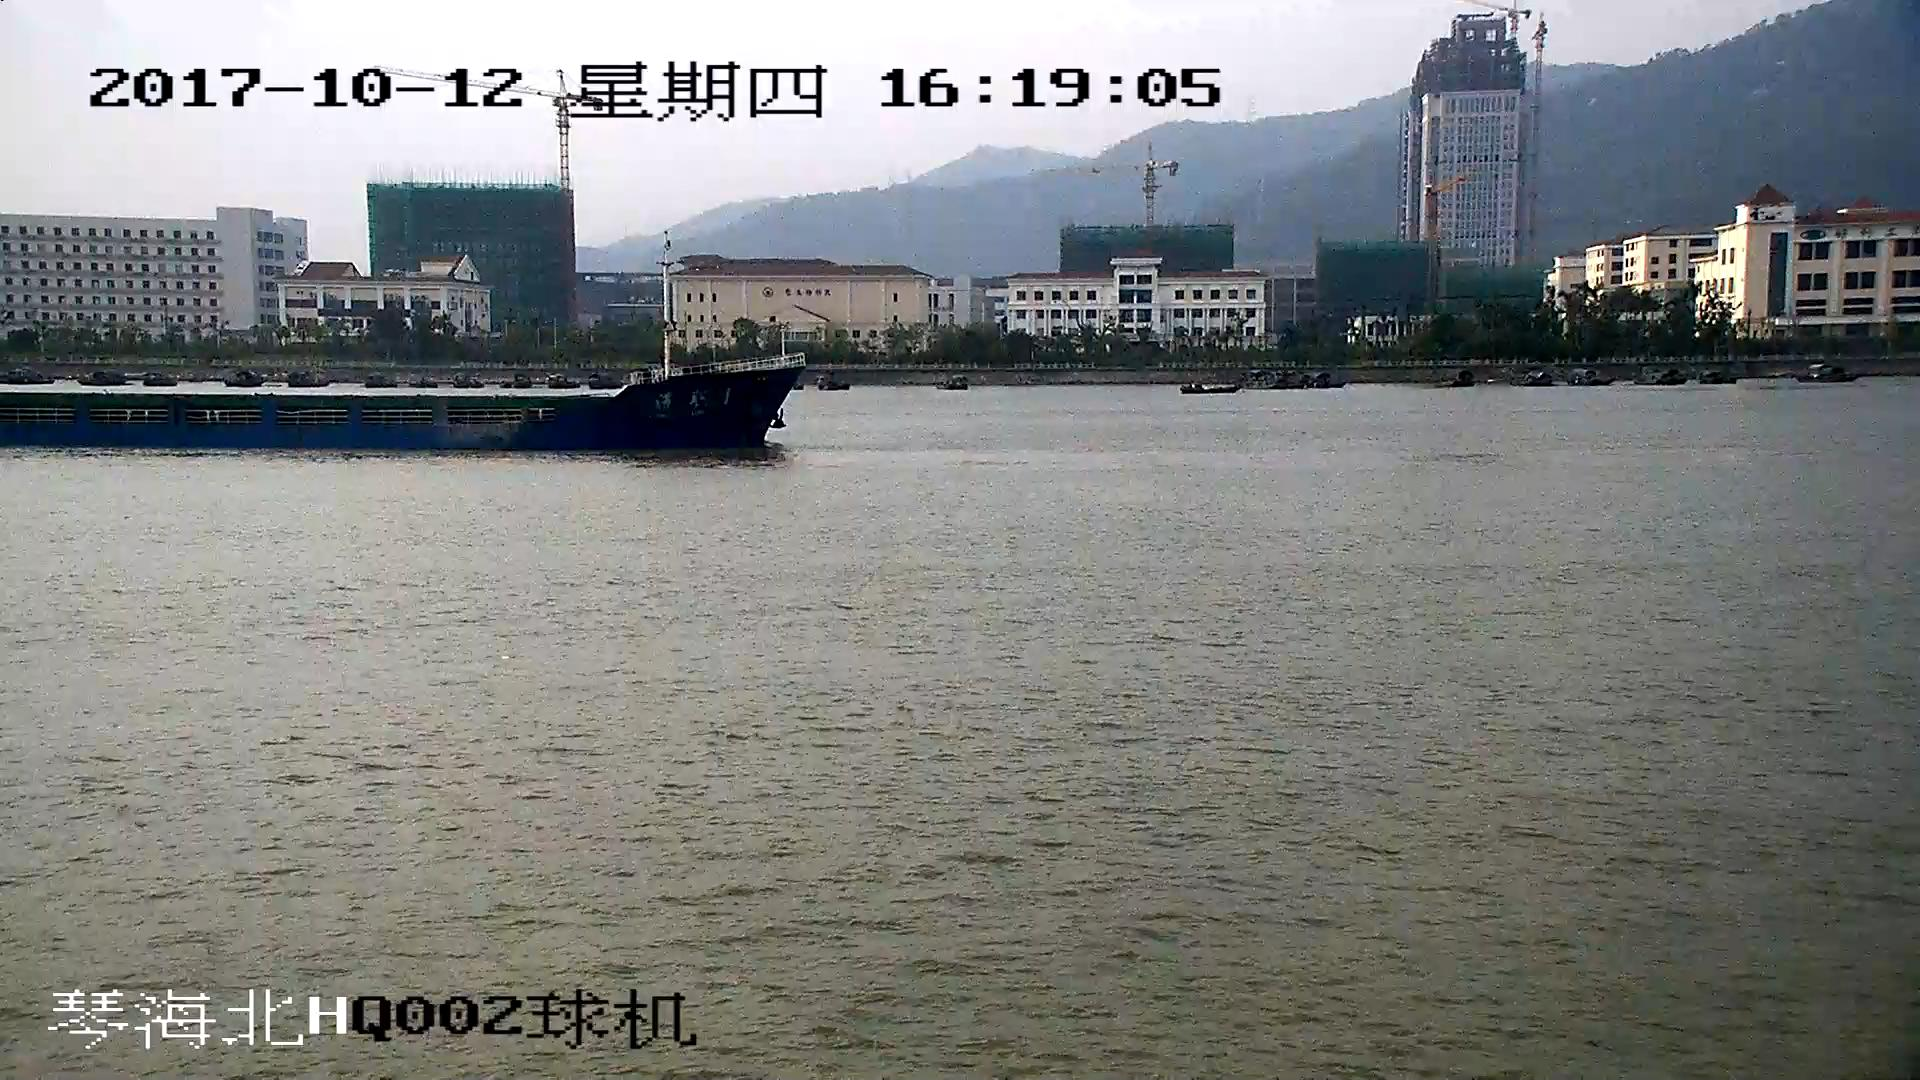general cargo ship: (1, 344, 795, 449)
